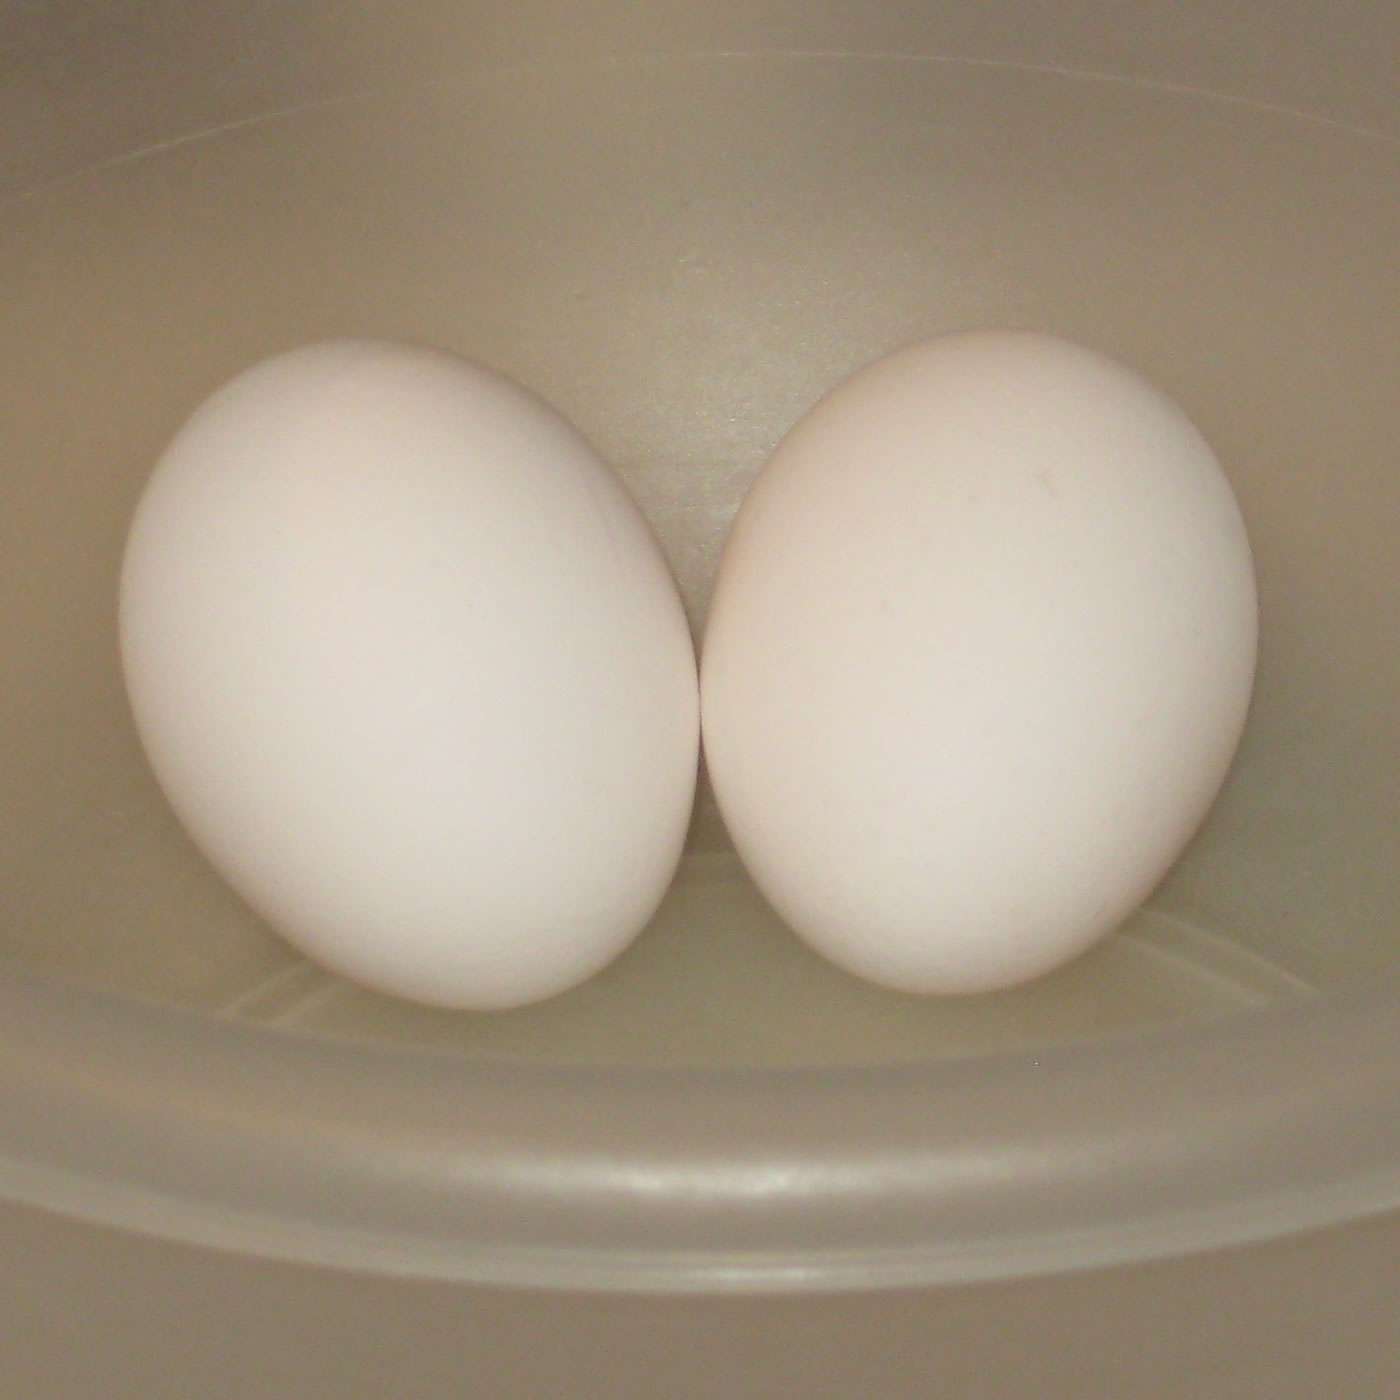Egg: (697, 299, 1274, 1038)
